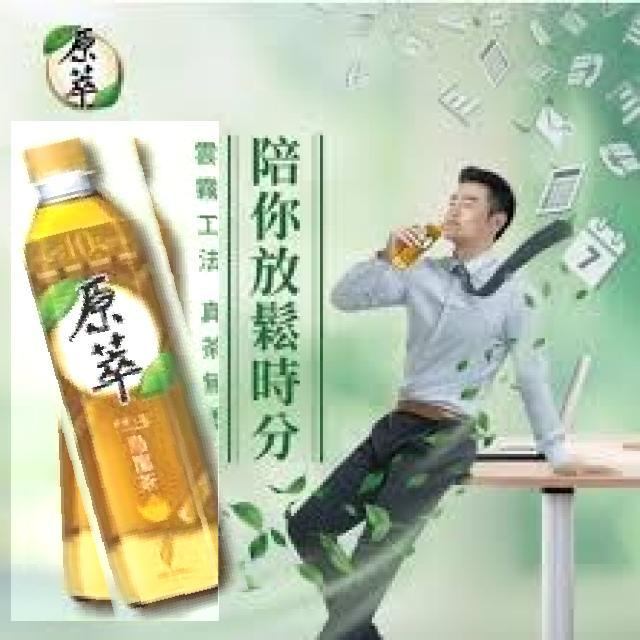RiYue_BlackTea: (12, 121, 220, 621)
